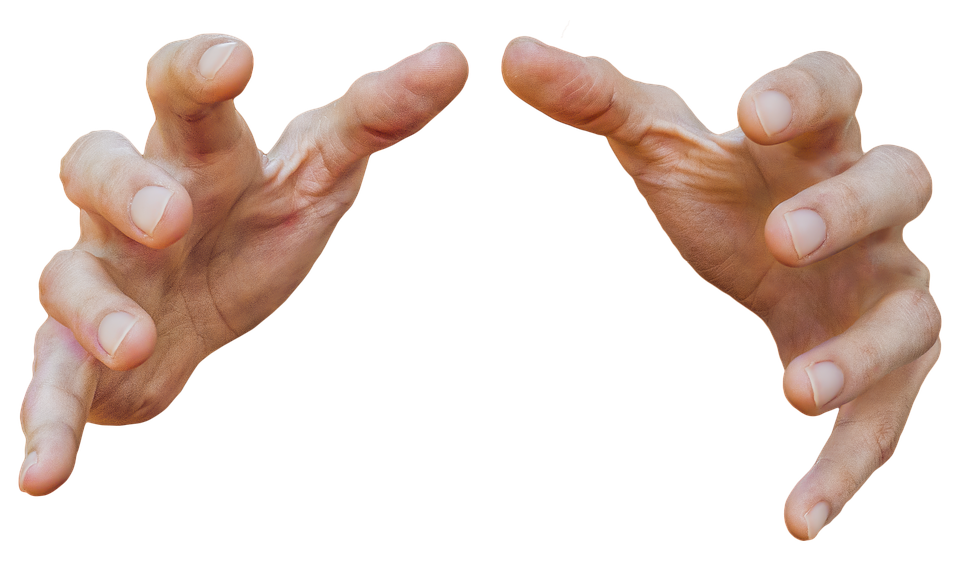move: (496, 28, 960, 560), (19, 31, 475, 512)
